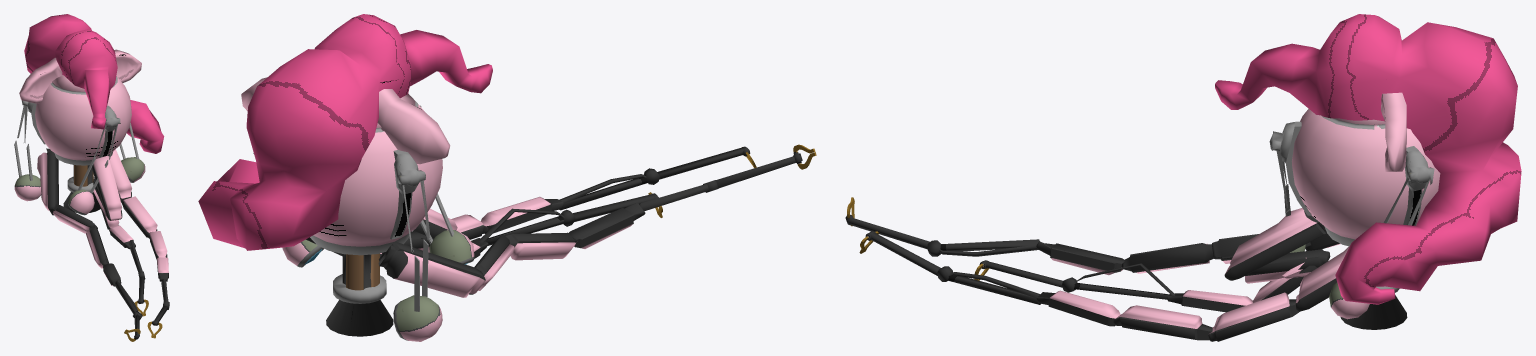
Rendered from mrHandy-pinkie-dead.glb.
The picture shows the model from 3 angles, left to right: view 1: azimuth 30°, elevation 25°; view 2: azimuth 150°, elevation 25°; view 3: azimuth 270°, elevation 25°; orthographic projection. The views are drawn at different scales.
Visible parts, largest first — view 1: maHandy; view 2: maHandy; view 3: maHandy.
Boxes of the visible parts, bbox=[...] form: maHandy: bbox=[14, 14, 169, 341]; maHandy: bbox=[198, 14, 816, 341]; maHandy: bbox=[845, 14, 1521, 341].
Size of the model in its own units: 3.9 by 3.63 by 7.1.
2 materials, 2 textured.
